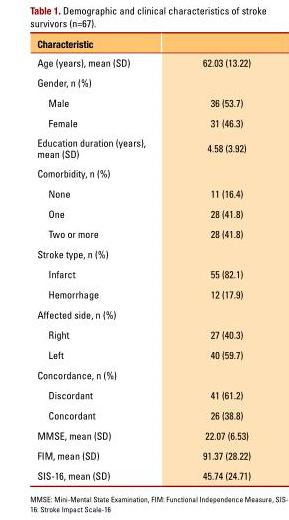table: (36, 37, 250, 481)
table column: (36, 37, 173, 481), (173, 37, 250, 481)
table column header: (36, 37, 250, 52)
table projected row header: (36, 303, 250, 324), (36, 72, 250, 92), (36, 243, 250, 263), (36, 364, 250, 384), (36, 163, 250, 182)
table row: (36, 132, 250, 163), (36, 182, 250, 203), (36, 303, 250, 324), (36, 444, 250, 465), (36, 52, 250, 72), (36, 72, 250, 92), (36, 92, 250, 112), (36, 112, 250, 132), (36, 203, 250, 223), (36, 223, 250, 243), (36, 243, 250, 263), (36, 263, 250, 283), (36, 283, 250, 303), (36, 324, 250, 344), (36, 344, 250, 364), (36, 364, 250, 384), (36, 384, 250, 404), (36, 404, 250, 424), (36, 424, 250, 444), (36, 163, 250, 182), (36, 465, 250, 481), (36, 37, 250, 52)
